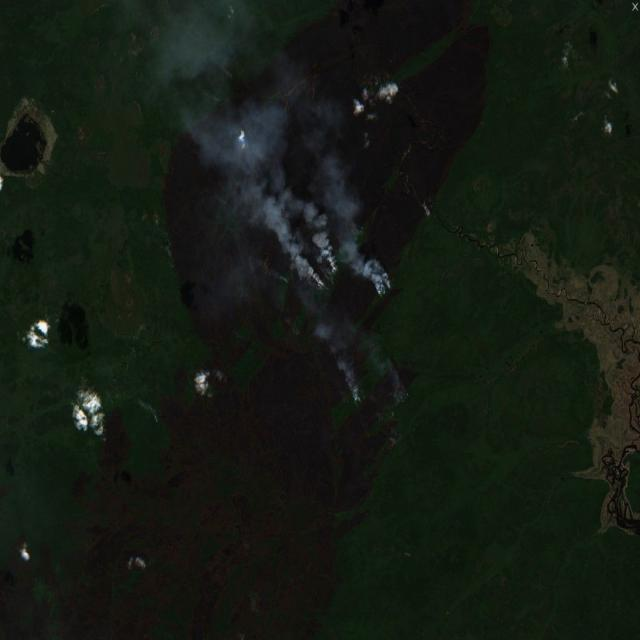fire: (300, 244, 342, 295), (386, 374, 423, 429), (367, 264, 402, 308), (349, 382, 365, 408), (150, 403, 163, 424)
